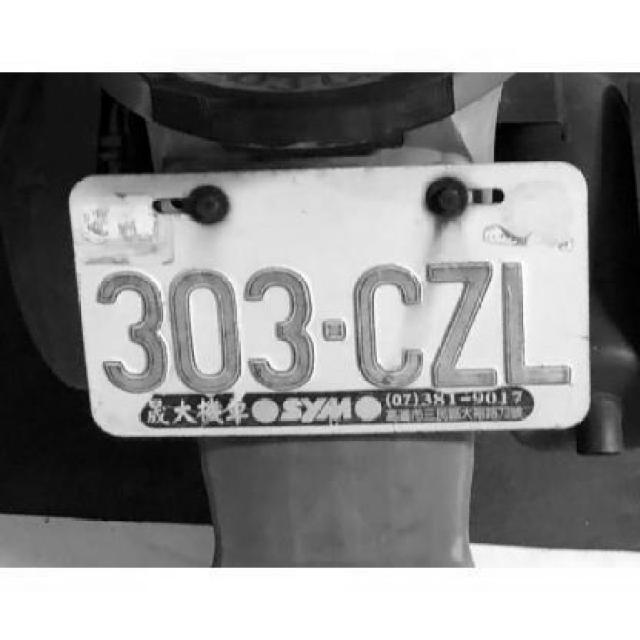-: (322, 320, 348, 342)
0: (171, 268, 243, 386)
3: (92, 264, 168, 394), (240, 262, 318, 378)
C: (354, 260, 426, 389)
L: (497, 257, 578, 389)
Z: (424, 254, 502, 389)
